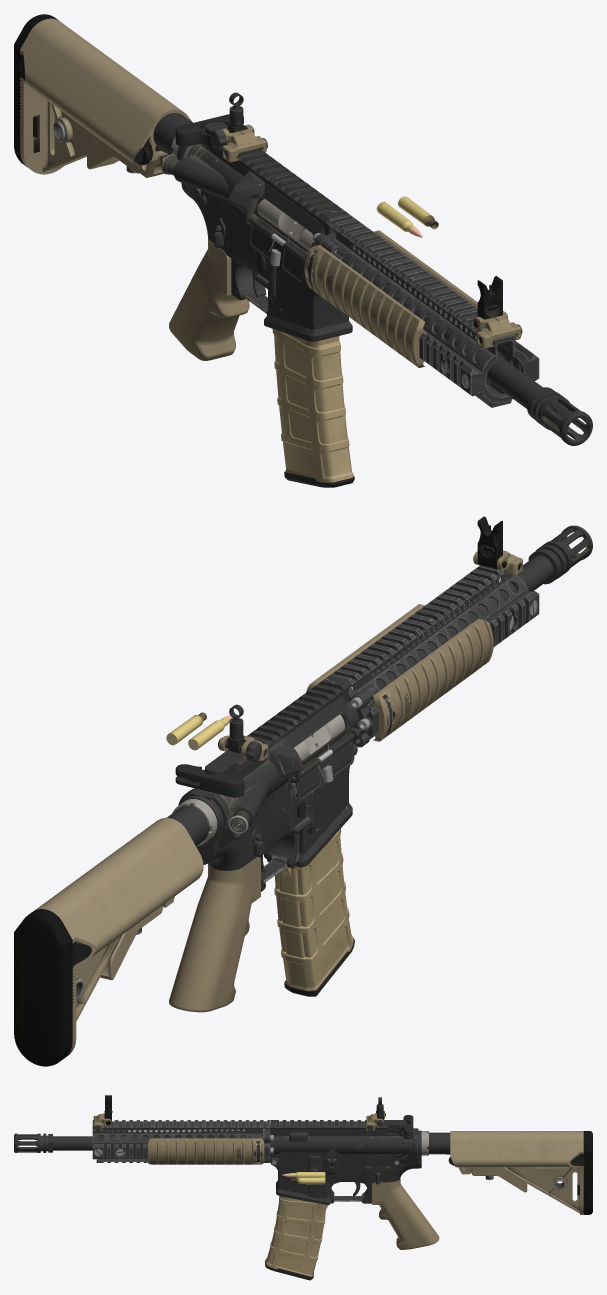
File: modern_warefare_m4a1 (1).glb
The picture shows the model from 3 angles, top to bottom: view 1: azimuth 30°, elevation 25°; view 2: azimuth 150°, elevation 25°; view 3: azimuth 270°, elevation 25°; orthographic projection. The views are drawn at different scales.
Visible parts, largest first — view 1: body, stock, handgaurd 1, magazine, rail cover, front iron sight-up, rear iron sight-up, ejection port cover, bolt, charging handle; view 2: body, stock, handgaurd 1, magazine, rail cover, ejection port cover, front iron sight-up, charging handle, rear iron sight-up, handgaurd 2, bolt; view 3: body, stock, handgaurd 1, magazine, rail cover, front iron sight-up, rear iron sight-up, charging handle, handgaurd 2.
Boxes of the visible parts, x1,y1,x2,y2 form: body: (153, 113, 592, 445); stock: (14, 14, 192, 177); handgaurd 1: (305, 214, 539, 407); magazine: (272, 329, 354, 487); rail cover: (304, 230, 477, 367); front iron sight-up: (473, 276, 522, 348); rear iron sight-up: (210, 92, 267, 162); ejection port cover: (248, 217, 305, 284); bolt: (258, 199, 313, 249); charging handle: (175, 114, 243, 146); body: (167, 525, 592, 1012); stock: (14, 817, 203, 1066); handgaurd 1: (330, 565, 539, 738); magazine: (274, 828, 354, 996); rail cover: (306, 604, 493, 741); ejection port cover: (290, 728, 362, 800); front iron sight-up: (473, 516, 522, 574); charging handle: (175, 764, 244, 797); rear iron sight-up: (218, 704, 268, 761); handgaurd 2: (348, 600, 536, 747); bolt: (294, 714, 344, 760); body: (14, 1120, 450, 1249); stock: (448, 1131, 592, 1214); handgaurd 1: (92, 1120, 269, 1162); magazine: (265, 1196, 328, 1280); rail cover: (147, 1130, 264, 1164); front iron sight-up: (93, 1095, 112, 1130); rear iron sight-up: (366, 1097, 385, 1131); charging handle: (389, 1115, 413, 1139); handgaurd 2: (94, 1125, 273, 1162).
Size of the model in its own units: 0.1346 by 0.262 by 0.7652.
10 materials, 10 textured.
